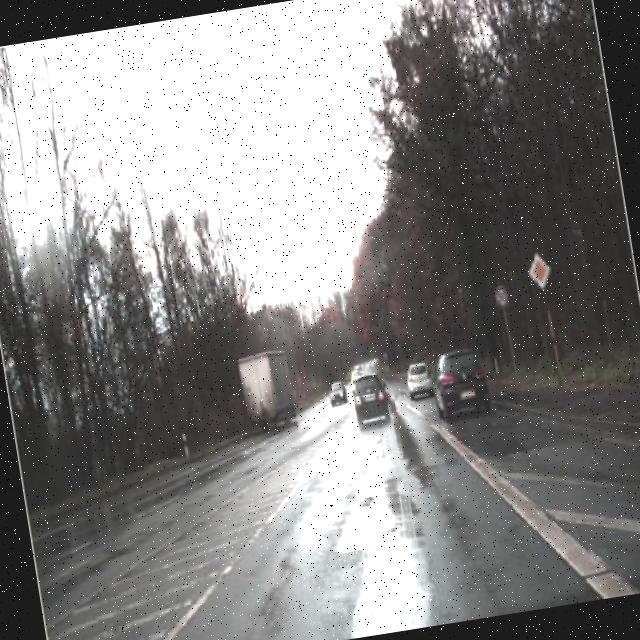Ograniczenie predkosci do 50: (490, 281, 513, 313)
